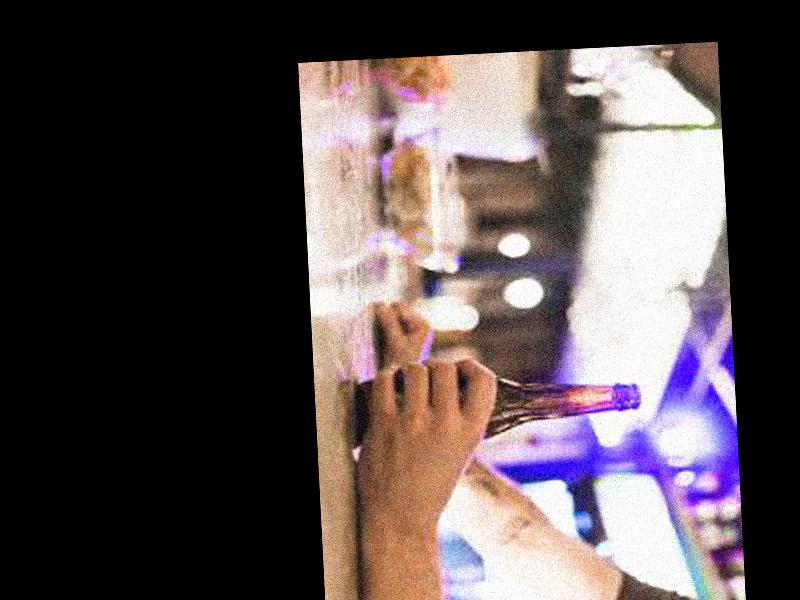Beer: (355, 367, 642, 444)
